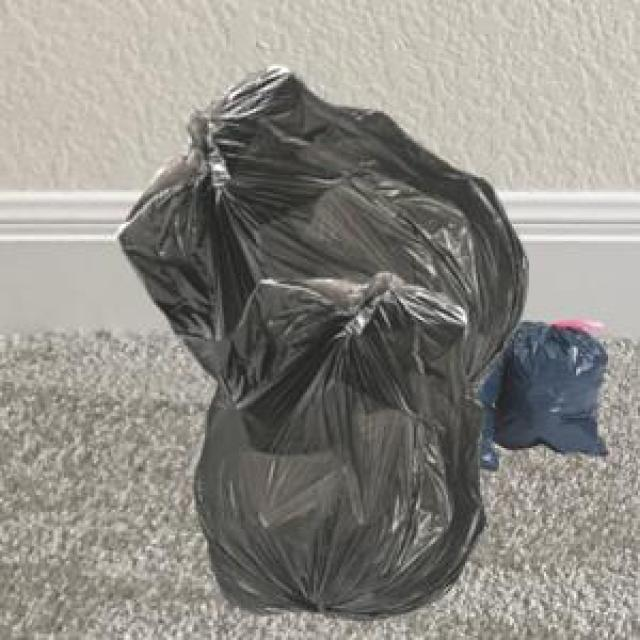Trashbag: (110, 59, 535, 320), (189, 271, 494, 627), (492, 320, 613, 464)
